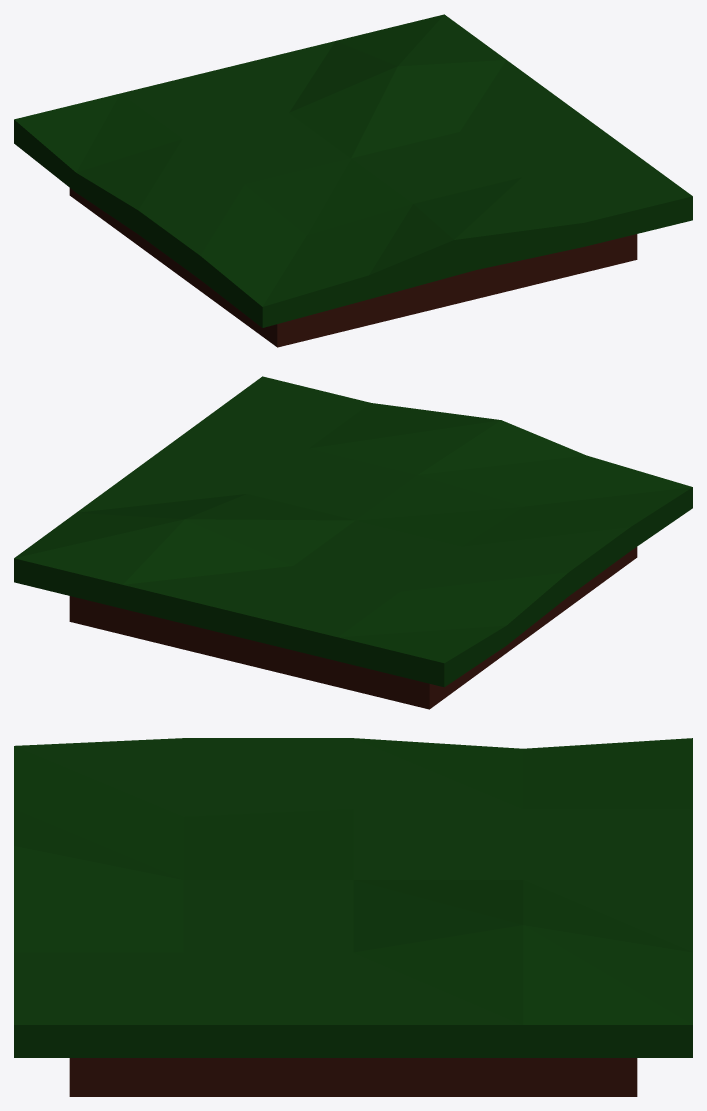
The model's file is lake_test.obj.
3 renders of one model, top to bottom at view 1: azimuth 30°, elevation 25°; view 2: azimuth 150°, elevation 25°; view 3: azimuth 270°, elevation 25°, orthographic. The views are drawn at different scales.
Visible parts, largest first — view 1: Cube.001; view 2: Cube.001; view 3: Cube.001.
Boxes of the visible parts, x1=… form: Cube.001: x1=14, y1=14, x2=692, y2=347; Cube.001: x1=14, y1=376, x2=692, y2=709; Cube.001: x1=14, y1=738, x2=692, y2=1096.
Size of the model in its own units: 9.57 by 1.91 by 9.57.
